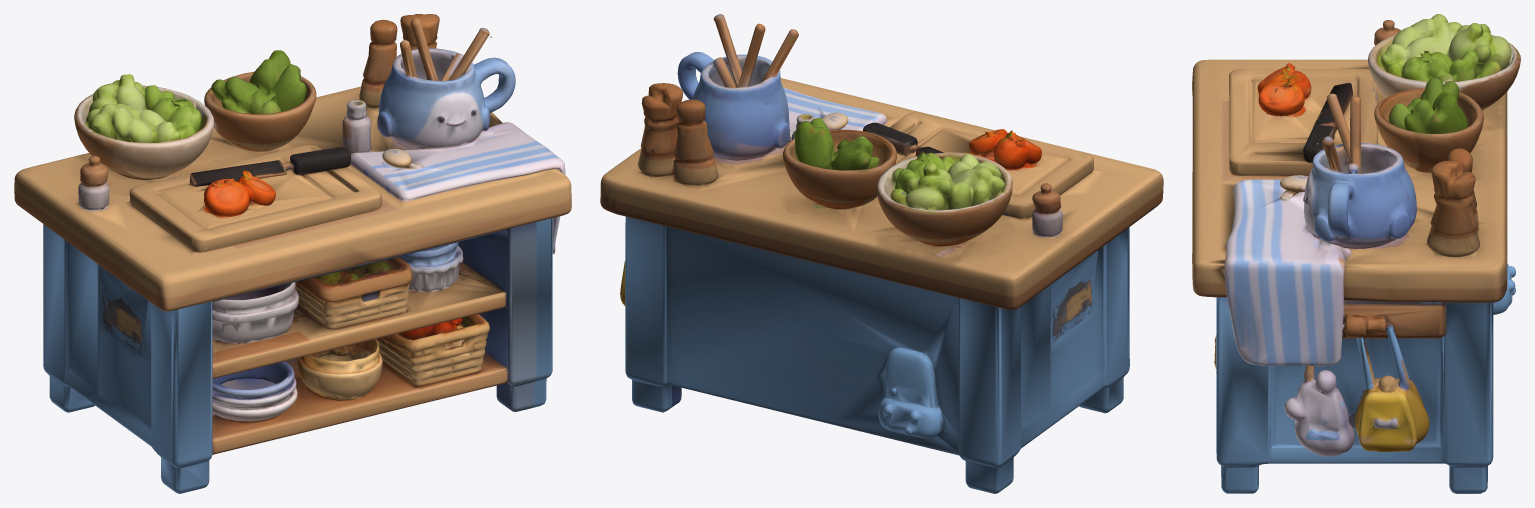
The model's file is table.glb.
3 renders of one model, left to right at view 1: azimuth 30°, elevation 25°; view 2: azimuth 150°, elevation 25°; view 3: azimuth 270°, elevation 25°, orthographic. The views are drawn at different scales.
Parts seen in each view (by area): view 1: table_mesh; view 2: table_mesh; view 3: table_mesh.
Part boxes in pixels (box(x1,y1,x2,y2)): table_mesh: box(14, 14, 571, 493); table_mesh: box(600, 14, 1163, 493); table_mesh: box(1192, 14, 1520, 493).
Bounding box in the file's own units: 1.92 × 1.47 × 1.2.
1 material, 1 textured.
